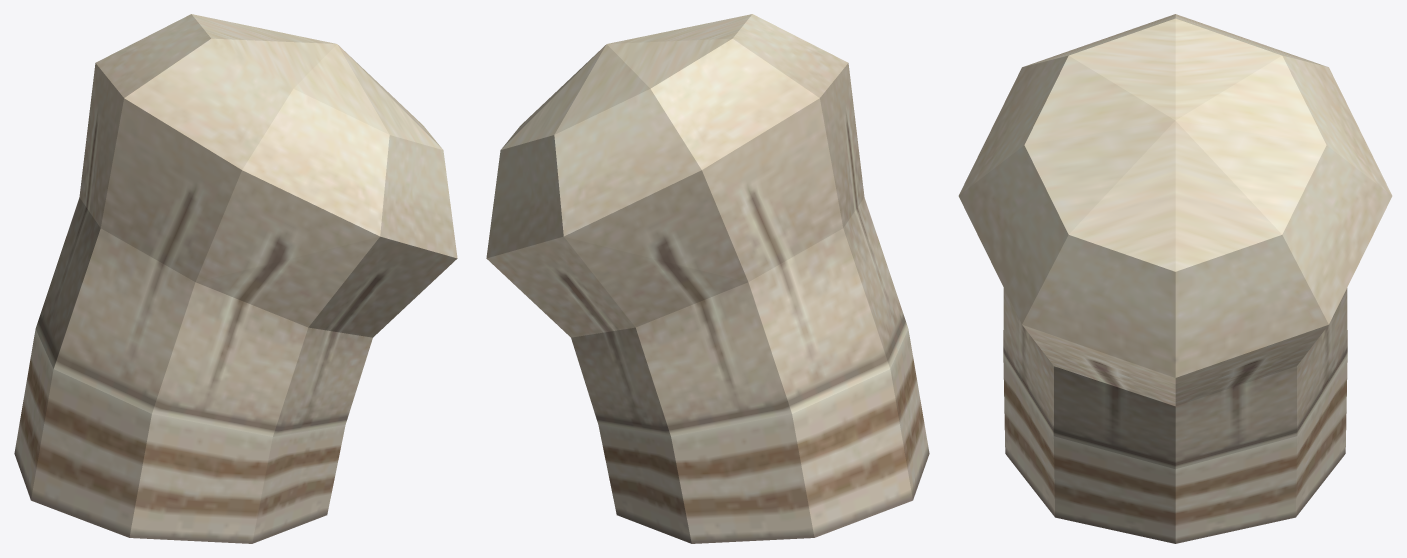
File: Whale_chefHat.obj
3 renders of one model, left to right at view 1: azimuth 30°, elevation 25°; view 2: azimuth 150°, elevation 25°; view 3: azimuth 270°, elevation 25°, orthographic. The views are drawn at different scales.
Visible parts, largest first — view 1: Whale_chefHat_tri; view 2: Whale_chefHat_tri; view 3: Whale_chefHat_tri.
Part boxes in pixels (left/top/right/bottom): Whale_chefHat_tri: left=14, top=14, right=457, bottom=543; Whale_chefHat_tri: left=486, top=14, right=929, bottom=543; Whale_chefHat_tri: left=958, top=14, right=1392, bottom=543.
Size of the model in its own units: 0.6373 by 0.6948 by 0.5756.
1 material, 1 textured.
